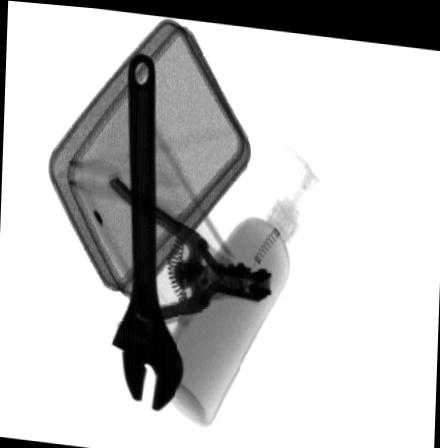Pliers: (104, 170, 272, 338)
Wrench: (107, 51, 183, 410)
